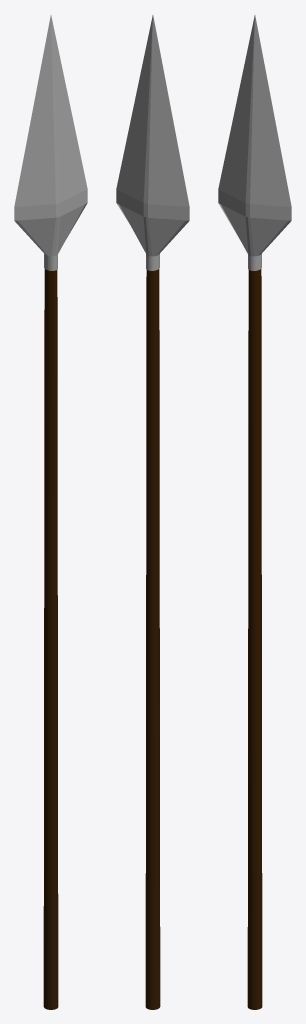
The model's file is Spear.fbx.
3 renders of one model, left to right at view 1: azimuth 30°, elevation 25°; view 2: azimuth 150°, elevation 25°; view 3: azimuth 330°, elevation 25°, orthographic.
Parts seen in each view (by area): view 1: Cube.001; view 2: Cube.001; view 3: Cube.001.
Part boxes in pixels (bbox=[...]): Cube.001: bbox=[14, 15, 87, 1009]; Cube.001: bbox=[116, 15, 189, 1009]; Cube.001: bbox=[218, 15, 291, 1009].
Size of the model in its own units: 73.41 by 948 by 24.87.
